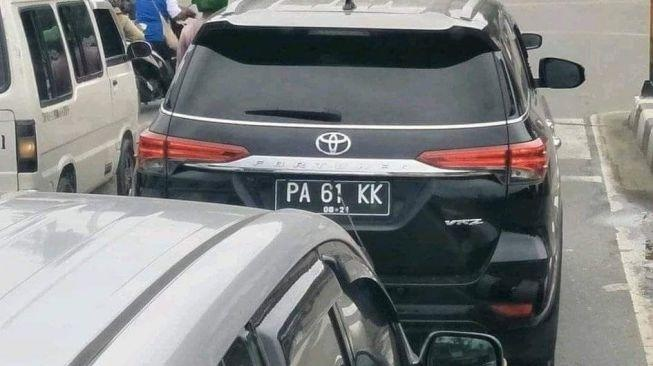plate: (277, 174, 391, 217)
